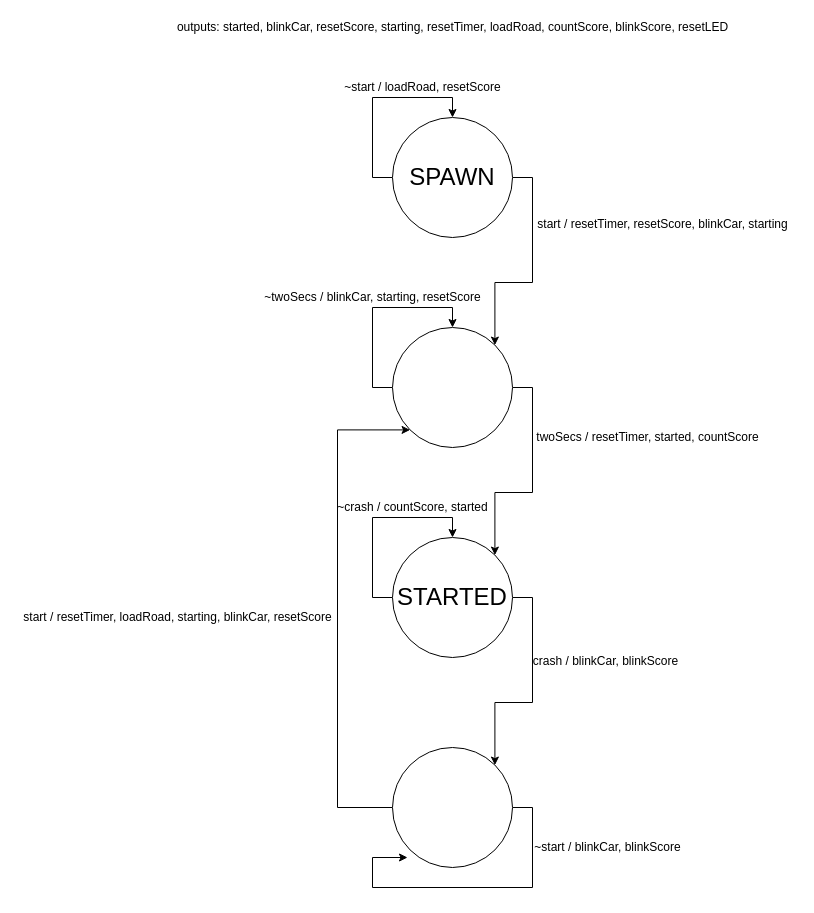
This 814x913 diagram has some shape labels left out. Each missing label, with the centre of its shape:
STARTING: point 452,387
STOPPED: point 452,807
